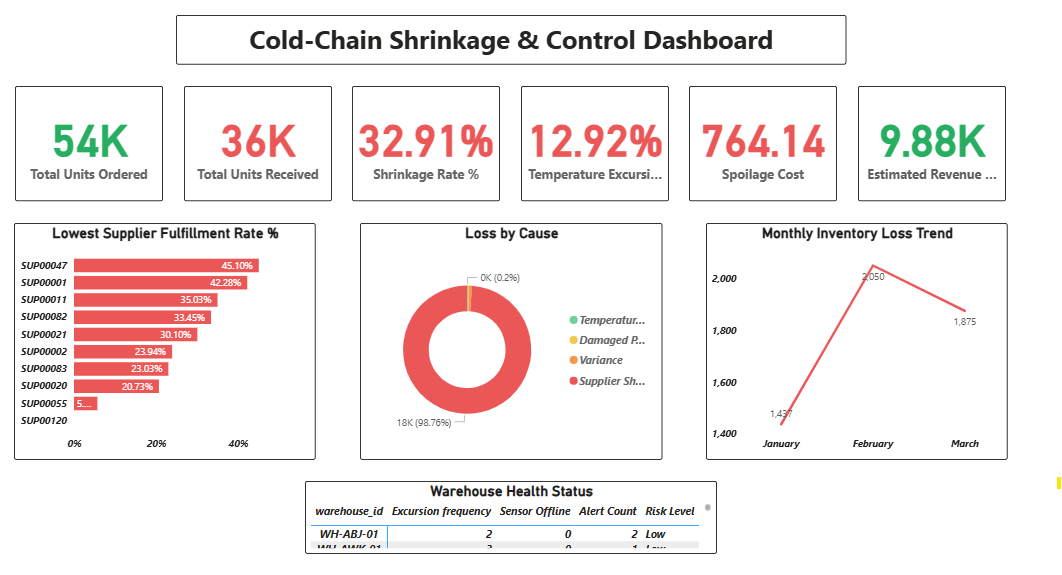

Layout of this report page (visuals, bound fields, positions):
{"tool":"powerbi","page":{"name":"Page 1","canvas":[1280,720],"ordinal":0},"visuals":[{"type":"textbox","box":[221,19.3,837.9,61.7],"z":0},{"type":"card","fields":{"Values":["Sum(Purchase_Order_tracking_sheet.ordered_qty)"]},"box":[20.5,107.9,185.1,143.9],"z":0,"group":"g1"},{"type":"clusteredBarChart","title":"Lowest Supplier Fulfillment Rate %","fields":{"Category":["Supplier_Performance_Report.Supplier ID"],"Y":["Sum(Supplier_Performance_Report.Supplier Fulfilment Rate)"]},"box":[19.2,278.7,376.5,295.6],"z":1000},{"type":"card","fields":{"Values":["Sum(Purchase_Order_tracking_sheet.received_qty)"]},"box":[231.3,107.9,185.1,143.9],"z":2000,"group":"g1"},{"type":"donutChart","title":"Loss by Cause","fields":{"Y":["Sum(Warehouse_Writeoff_Summary.temprature_write_off_qty)","Sum(Warehouse_Writeoff_Summary.damaged_write_off_qty)","Sum(cycle_counts_coldchain.variance)","Purchase_Order_tracking_sheet.Supplier Shortfall"]},"box":[451,278.7,377.8,295.6],"z":2000},{"type":"pivotTable","title":"Warehouse Health Status","fields":{"Values":["temperature_logs_coldchain.Excursion frequency","Sum(Warehouse_Health_Status_Report.Offline_count)","Sum(Warehouse_Health_Status_Report.Warning_count)","Warehouse_Health_Status_Report.Risk Level"],"Rows":["Warehouse_Health_Status_Report.warehouse_id"]},"box":[382.7,601.2,514.6,91.2],"z":3000},{"type":"card","fields":{"Values":["Purchase_Order_tracking_sheet.Shrinkage Rate"]},"box":[442,107.9,185.1,143.9],"z":4000,"group":"g1"},{"type":"lineChart","title":"Monthly Inventory Loss Trend","fields":{"Category":["stock_movements_coldchain.movement_date.Variation.Date Hierarchy.Month"],"Y":["Purchase_Order_tracking_sheet.Supplier Shortfall"]},"box":[884.1,278.7,376.5,295.6],"z":4000},{"type":"group","id":"g1","title":"Group 2","box":[20.5,107.9,1238.9,143.9],"z":5000},{"type":"card","fields":{"Values":["temperature_logs_coldchain.Temperature Excursion Rate"]},"box":[652.8,107.9,185.1,143.9],"z":5000,"group":"g1"},{"type":"card","fields":{"Values":["stock_movements_coldchain.Spoilage Cost"]},"box":[863.6,107.9,185.1,143.9],"z":7000,"group":"g1"},{"type":"card","fields":{"Values":["stock_movements_coldchain.Estimated Revenue Generated"]},"box":[1074.3,107.9,185.1,143.9],"z":9000,"group":"g1"}]}

Visuals, with their boxes in screenshot pixels (x1, y1, x2, y2):
textbox: (x1=180, y1=15, x2=840, y2=64)
card - Sum(Purchase_Order_tracking_sheet.ordered_qty): (x1=22, y1=85, x2=168, y2=198)
"Lowest Supplier Fulfillment Rate %" clusteredBarChart: (x1=21, y1=220, x2=317, y2=452)
card - Sum(Purchase_Order_tracking_sheet.received_qty): (x1=188, y1=85, x2=334, y2=198)
"Loss by Cause" donutChart: (x1=361, y1=220, x2=659, y2=452)
"Warehouse Health Status" pivotTable: (x1=307, y1=474, x2=713, y2=546)
card - Purchase_Order_tracking_sheet.Shrinkage Rate: (x1=354, y1=85, x2=500, y2=198)
"Monthly Inventory Loss Trend" lineChart: (x1=702, y1=220, x2=999, y2=452)
"Group 2" group: (x1=22, y1=85, x2=998, y2=198)
card - temperature_logs_coldchain.Temperature Excursion Rate: (x1=520, y1=85, x2=666, y2=198)
card - stock_movements_coldchain.Spoilage Cost: (x1=686, y1=85, x2=832, y2=198)
card - stock_movements_coldchain.Estimated Revenue Generated: (x1=852, y1=85, x2=998, y2=198)
